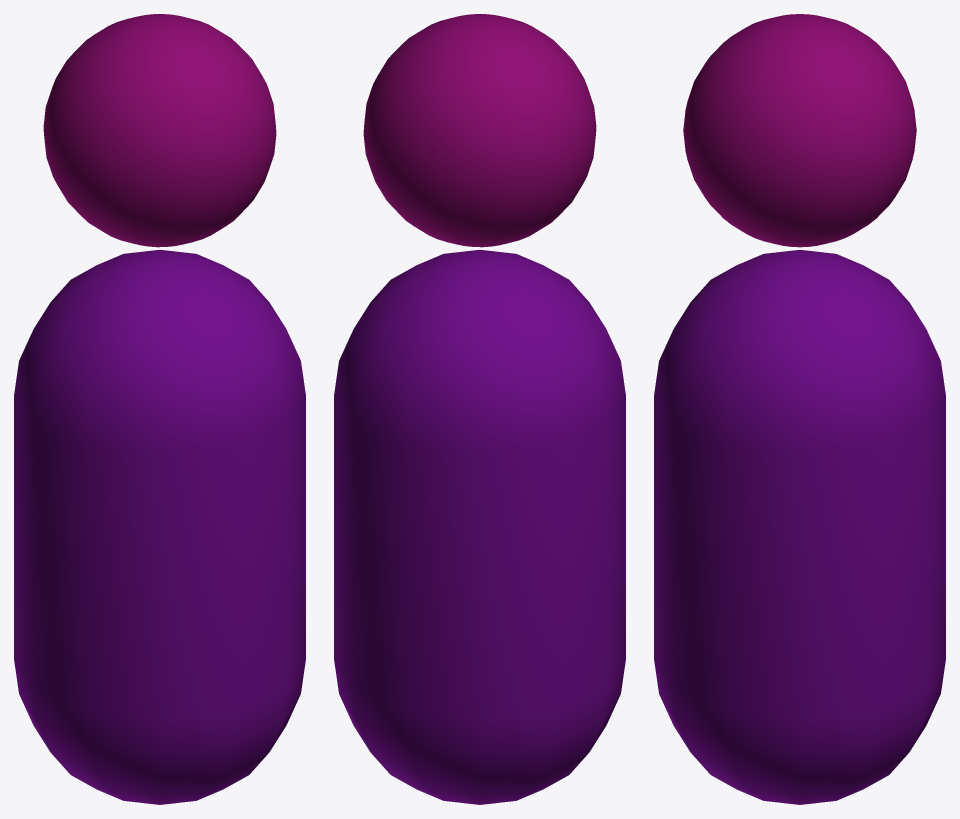
The model's file is trooperRed.obj.
3 renders of one model, left to right at view 1: azimuth 30°, elevation 25°; view 2: azimuth 150°, elevation 25°; view 3: azimuth 270°, elevation 25°, orthographic.
Visible parts, largest first — view 1: Capsule001, Sphere001; view 2: Capsule001, Sphere001; view 3: Capsule001, Sphere001.
Part boxes in pixels (bbox=[...]): Capsule001: bbox=[14, 249, 305, 804]; Sphere001: bbox=[43, 14, 276, 247]; Capsule001: bbox=[334, 249, 625, 804]; Sphere001: bbox=[363, 14, 596, 247]; Capsule001: bbox=[654, 250, 945, 804]; Sphere001: bbox=[683, 14, 916, 247].
Size of the model in its own units: 1 by 2.9 by 1.
